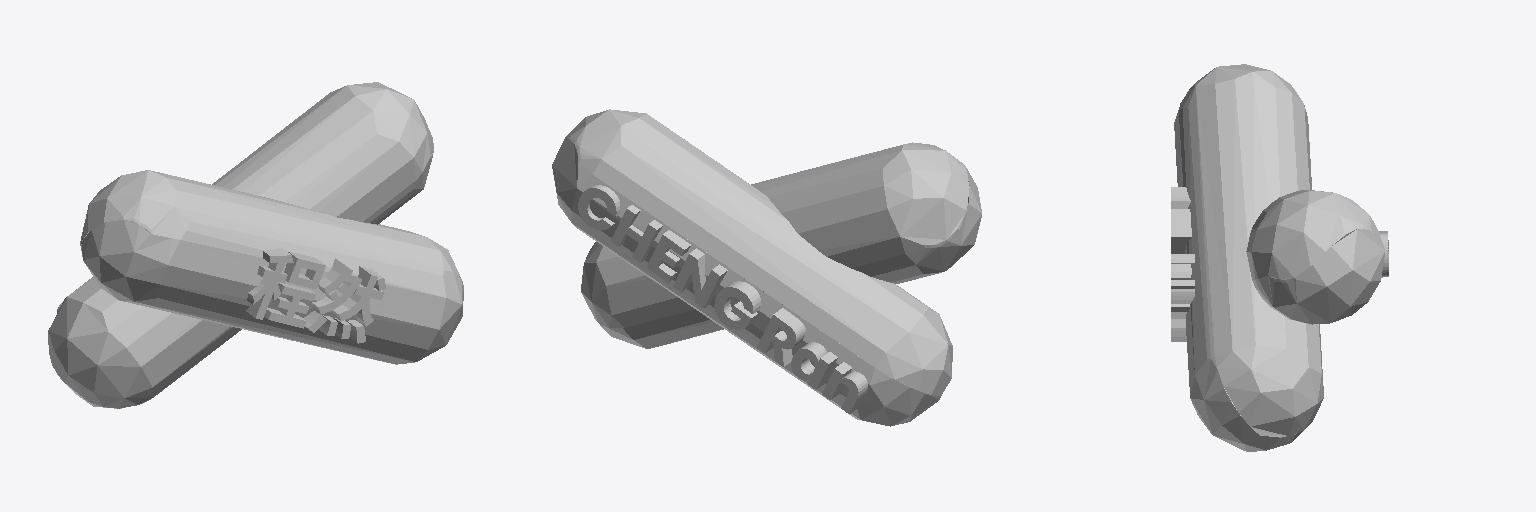
File: ChengRan.obj
3 views of the same model, side by side, from view 1: azimuth 30°, elevation 25°; view 2: azimuth 150°, elevation 25°; view 3: azimuth 270°, elevation 25° (orthographic).
Parts seen in each view (by area): view 1: root_3, root_2, node_id201; view 2: root_2, root_3, node_id212; view 3: root_3, root_2, node_id201.
Part boxes in pixels (x1,y1,x2,y2): root_3: (80,170,463,364); root_2: (48,82,433,408); node_id201: (246,248,385,343); root_2: (552,109,952,426); root_3: (581,142,981,348); node_id212: (578,185,867,413); root_3: (1174,64,1323,451); root_2: (1246,190,1384,324); node_id201: (1171,187,1194,341).
Size of the model in its own units: 0.289 by 0.1836 by 0.1449.